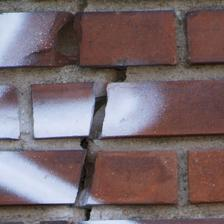Crack: (0, 31, 137, 94), (13, 27, 120, 65)
